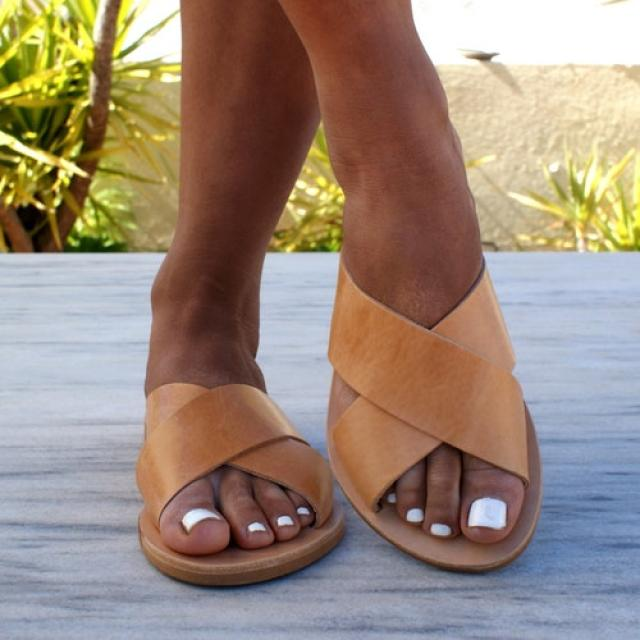Sandals: (326, 136, 544, 584), (129, 248, 344, 586)
